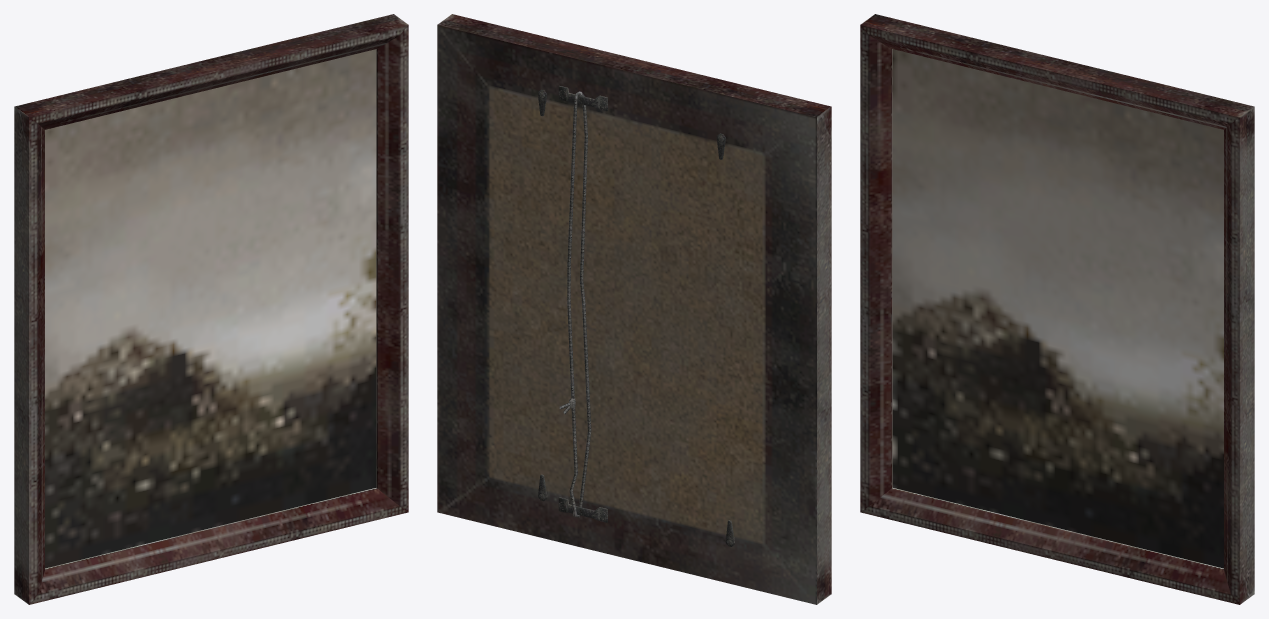
Rendered from 018_Picture.fbx.
3 renders of one model, left to right at view 1: azimuth 30°, elevation 25°; view 2: azimuth 150°, elevation 25°; view 3: azimuth 330°, elevation 25°, orthographic.
Parts seen in each view (by area): view 1: LOD_1_Group_1_Sub_1__sm32_018_PictureFrame02A_A_Mat, LOD_1_Group_0_Sub_1__sm32_018_PictureFrame02A_B_Mat; view 2: LOD_1_Group_0_Sub_1__sm32_018_PictureFrame02A_B_Mat; view 3: LOD_1_Group_1_Sub_1__sm32_018_PictureFrame02A_A_Mat, LOD_1_Group_0_Sub_1__sm32_018_PictureFrame02A_B_Mat.
Boxes of the visible parts, left/top/right/bottom form: LOD_1_Group_1_Sub_1__sm32_018_PictureFrame02A_A_Mat: left=45, top=49, right=376, bottom=568; LOD_1_Group_0_Sub_1__sm32_018_PictureFrame02A_B_Mat: left=14, top=14, right=408, bottom=604; LOD_1_Group_0_Sub_1__sm32_018_PictureFrame02A_B_Mat: left=437, top=14, right=831, bottom=604; LOD_1_Group_1_Sub_1__sm32_018_PictureFrame02A_A_Mat: left=892, top=49, right=1223, bottom=568; LOD_1_Group_0_Sub_1__sm32_018_PictureFrame02A_B_Mat: left=860, top=14, right=1254, bottom=604.
Size of the model in its own units: 0.4426 by 0.5432 by 0.0449.
